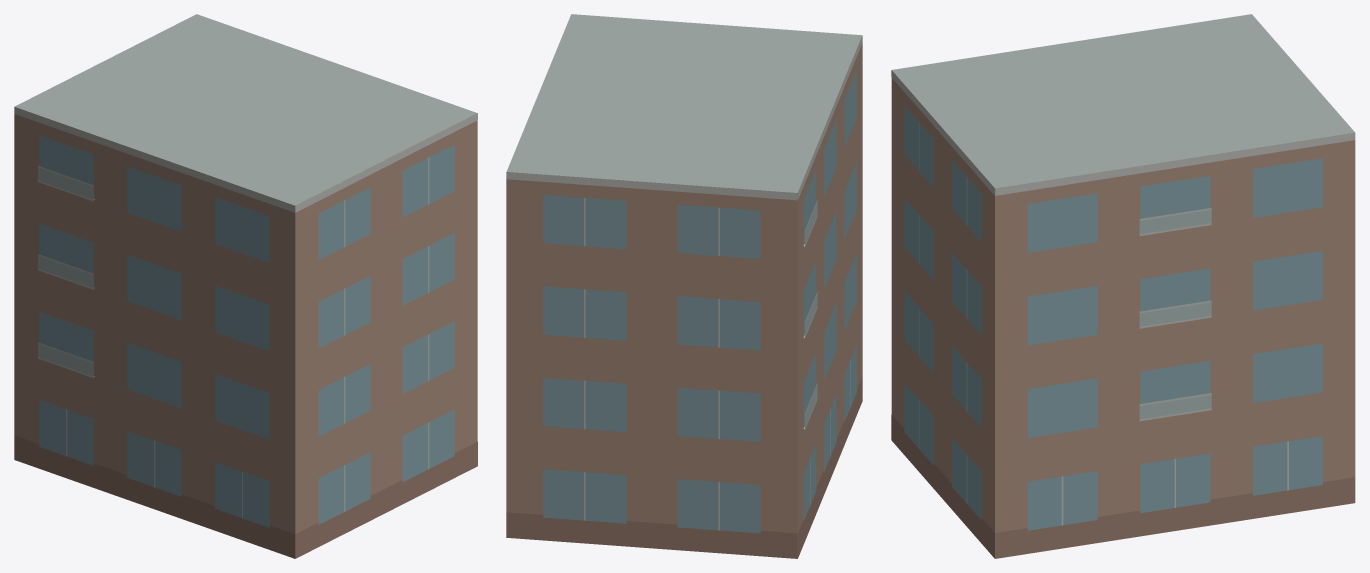
Rendered from survey-upis-32866788.glb.
3 views of the same model, side by side, from view 1: azimuth 30°, elevation 25°; view 2: azimuth 150°, elevation 25°; view 3: azimuth 270°, elevation 25° (orthographic). The views are drawn at different scales.
Visible parts, largest first — view 1: survey-upis-32866788.tmp; view 2: survey-upis-32866788.tmp; view 3: survey-upis-32866788.tmp.
Boxes of the visible parts, x1,y1,x2,y2 form: survey-upis-32866788.tmp: (14,14,477,558); survey-upis-32866788.tmp: (506,14,862,558); survey-upis-32866788.tmp: (891,14,1355,558).
Size of the model in its own units: 12.35 by 12.21 by 13.87.
